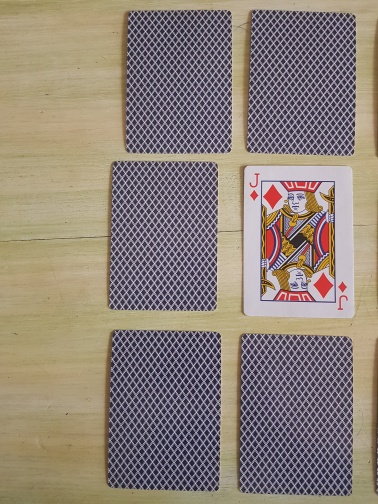jack: (241, 165, 356, 319)
